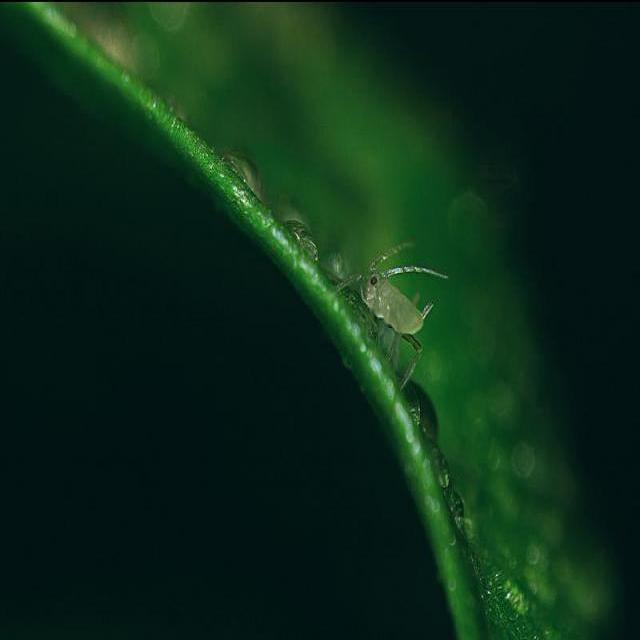aphid: (332, 245, 446, 392)
